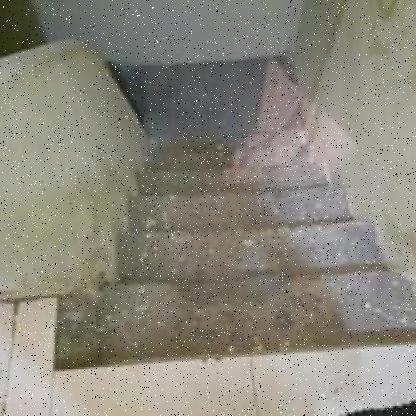stair_down: (69, 216, 387, 364)
